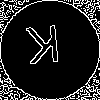K: (25, 25, 62, 74)
